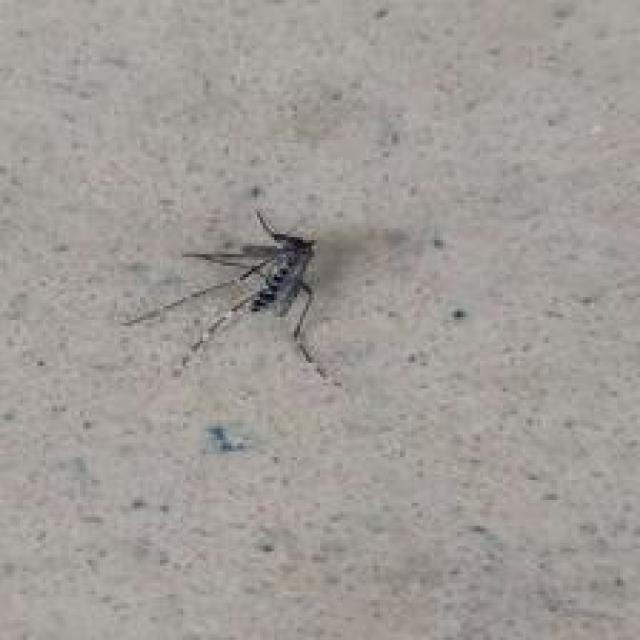Aedes albopictus: (120, 207, 343, 390)
